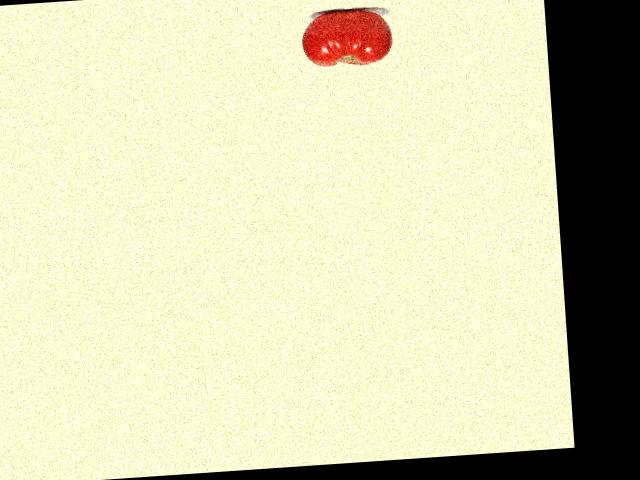tomato: (299, 8, 393, 69)
